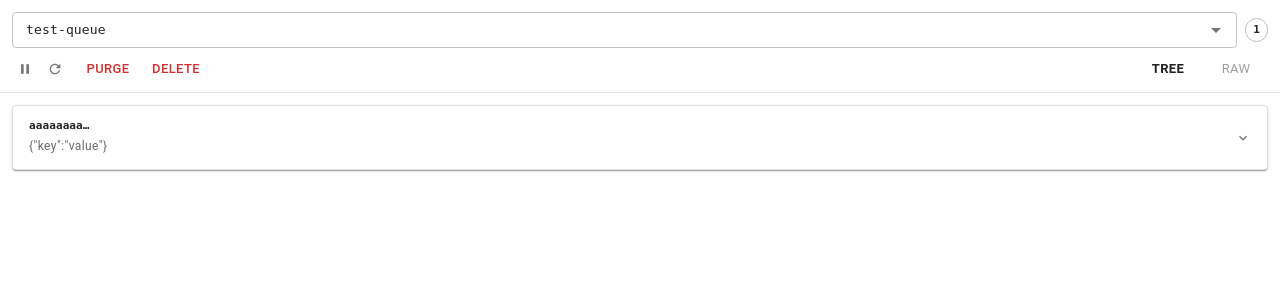
Test: <QueueColumn /> › expanding an accordion shows message body content
What coordinates should you click on to do the following:
click the button "aaaaaaaa… {\"key\":\"value\"}"
I would click on:
 (56, 126)
Its box is [13, 106, 1267, 169].
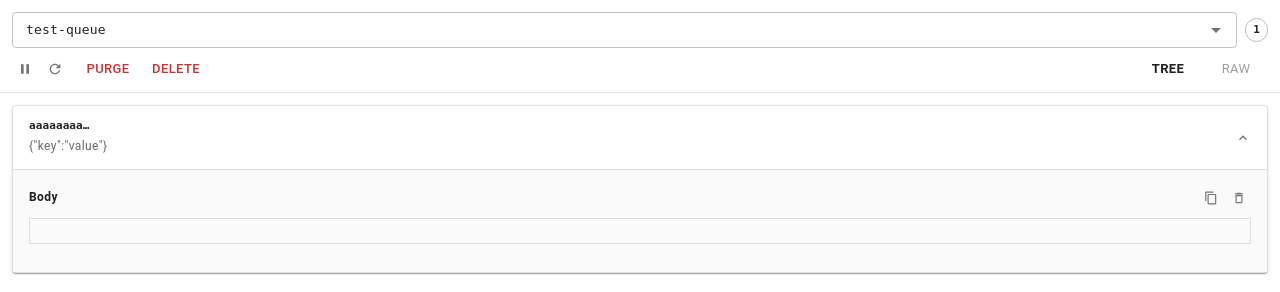
Now the text "Body" is shown, box [29, 188, 58, 208]
